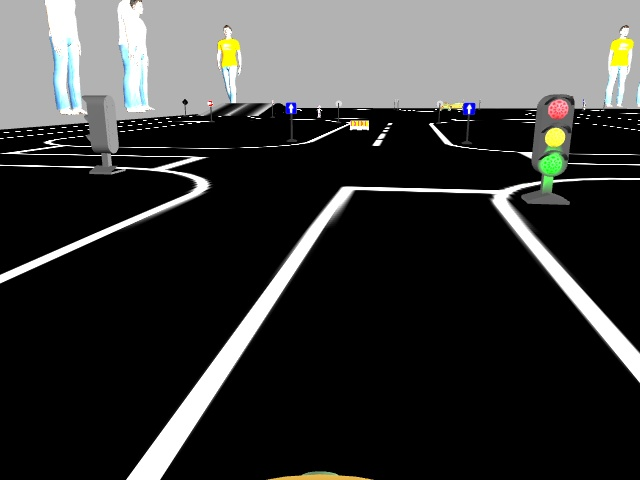ClosedRoadStand: (349, 120, 368, 130)
OneWay: (463, 102, 474, 114), (286, 102, 295, 114)
TrafficLight: (530, 94, 573, 176)
